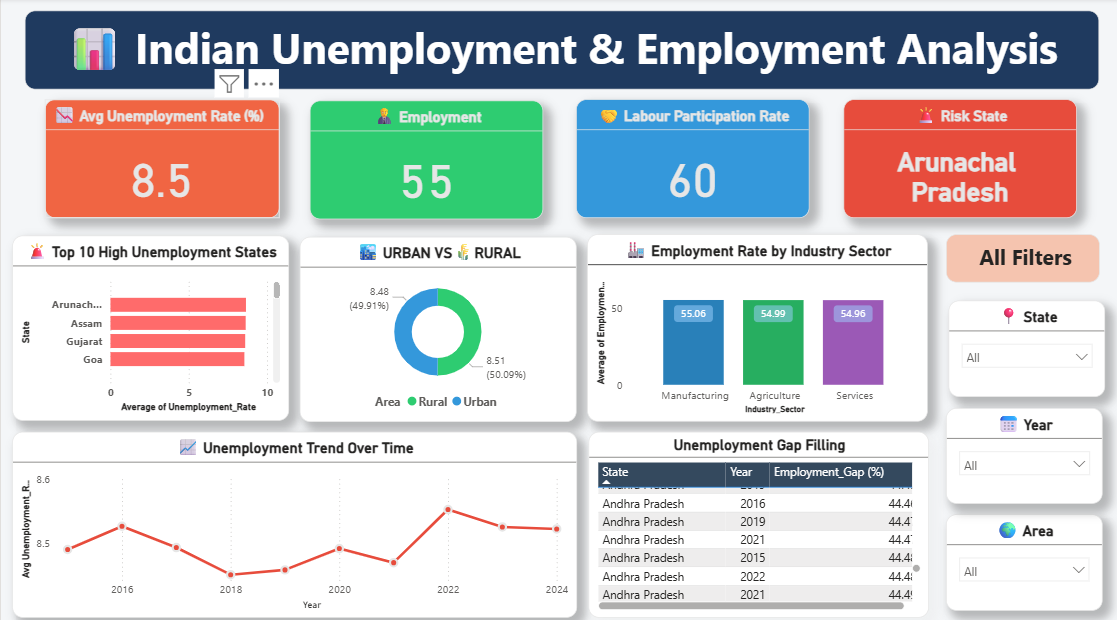

This screenshot's page, from the dashboard's own definition file:
{"tool":"powerbi","page":{"name":"Main Dashboard","canvas":[1280,720],"ordinal":0},"visuals":[{"type":"textbox","box":[27.4,13.7,1229.5,90.6],"z":0},{"type":"card","title":"📉 Avg Unemployment Rate (%)","fields":{"Values":["Unemployment_Cleaing_Dateset.Average_Unemployment"]},"box":[49.4,115.3,269,135.8],"z":1000},{"type":"card","title":"👨💼 Employment","fields":{"Values":["Unemployment_Cleaing_Dateset.Avg Employment Rate (%)"]},"box":[354,116.6,267.6,135.8],"z":2000},{"type":"card","title":"🤝 Labour Participation Rate","fields":{"Values":["Unemployment_Cleaing_Dateset.Labour Participation Rate (%)"]},"box":[658.7,115.3,267.6,135.8],"z":3000},{"type":"card","title":"🚨 Risk State","fields":{"Values":["Unemployment_Cleaing_Dateset.Highest Unemployment State"]},"box":[964.7,115.3,267.6,135.8],"z":4000},{"type":"barChart","title":"🚨 Top 10 High Unemployment States","fields":{"Category":["Unemployment_Cleaing_Dateset.State"],"Y":["Avg(Unemployment_Cleaing_Dateset.Unemployment_Rate)"]},"box":[12.6,272,316.9,211.7],"z":5000},{"type":"donutChart","title":"🏙️ URBAN VS🌾RURAL","fields":{"Category":["Unemployment_Cleaing_Dateset.Area"],"Y":["Avg(Unemployment_Cleaing_Dateset.Unemployment_Rate)"]},"box":[342.2,273.4,316.9,211.7],"z":6000},{"type":"lineChart","title":"📈 Unemployment Trend Over Time","fields":{"Y":["Avg(Unemployment_Cleaing_Dateset.Unemployment_Rate)"],"Category":["Unemployment_Cleaing_Dateset.Year"]},"box":[12.6,496.4,646.5,213.1],"z":7000},{"type":"clusteredColumnChart","title":"🏭 Employment Rate by Industry Sector","fields":{"Category":["Unemployment_Cleaing_Dateset.Industry_Sector"],"Y":["Avg(Unemployment_Cleaing_Dateset.Employment_Rate)"]},"box":[671,270.3,389.7,214.1],"z":8000},{"type":"slicer","title":"📍 State","fields":{"Values":["Unemployment_Cleaing_Dateset.State"]},"box":[1084,346.4,179.5,110.8],"z":9000},{"type":"slicer","title":"🌍 Area","fields":{"Values":["Unemployment_Cleaing_Dateset.Area"]},"box":[1081.2,590.4,179,110],"z":10000},{"type":"tableEx","title":"Unemployment Gap Filling","fields":{"Values":["Unemployment_Cleaing_Dateset.State","Unemployment_Cleaing_Dateset.Year","Unemployment_Cleaing_Dateset.Employment_Gap"]},"box":[671.7,496.4,389.8,213.1],"z":11000},{"type":"slicer","title":"📅 Year","fields":{"Values":["Unemployment_Cleaing_Dateset.Year"]},"box":[1081.2,469.8,179.5,109.4],"z":12000},{"type":"textbox","box":[1081.3,270.3,175.6,54.9],"z":13000}]}

Visuals, with their boxes in screenshot pixels (x1, y1, x2, y2), scaled from the page's 1280x720 canvas onto the 1117x620 screenshot:
textbox: <region>24, 12, 1097, 90</region>
"📉 Avg Unemployment Rate (%)" card: <region>43, 99, 278, 216</region>
"👨💼 Employment" card: <region>309, 100, 542, 217</region>
"🤝 Labour Participation Rate" card: <region>575, 99, 808, 216</region>
"🚨 Risk State" card: <region>842, 99, 1075, 216</region>
"🚨 Top 10 High Unemployment States" barChart: <region>11, 234, 288, 417</region>
"🏙️ URBAN VS🌾RURAL" donutChart: <region>299, 235, 575, 418</region>
"📈 Unemployment Trend Over Time" lineChart: <region>11, 427, 575, 611</region>
"🏭 Employment Rate by Industry Sector" clusteredColumnChart: <region>586, 233, 926, 417</region>
"📍 State" slicer: <region>946, 298, 1103, 394</region>
"🌍 Area" slicer: <region>944, 508, 1100, 603</region>
"Unemployment Gap Filling" tableEx: <region>586, 427, 926, 611</region>
"📅 Year" slicer: <region>944, 405, 1100, 499</region>
textbox: <region>944, 233, 1097, 280</region>
